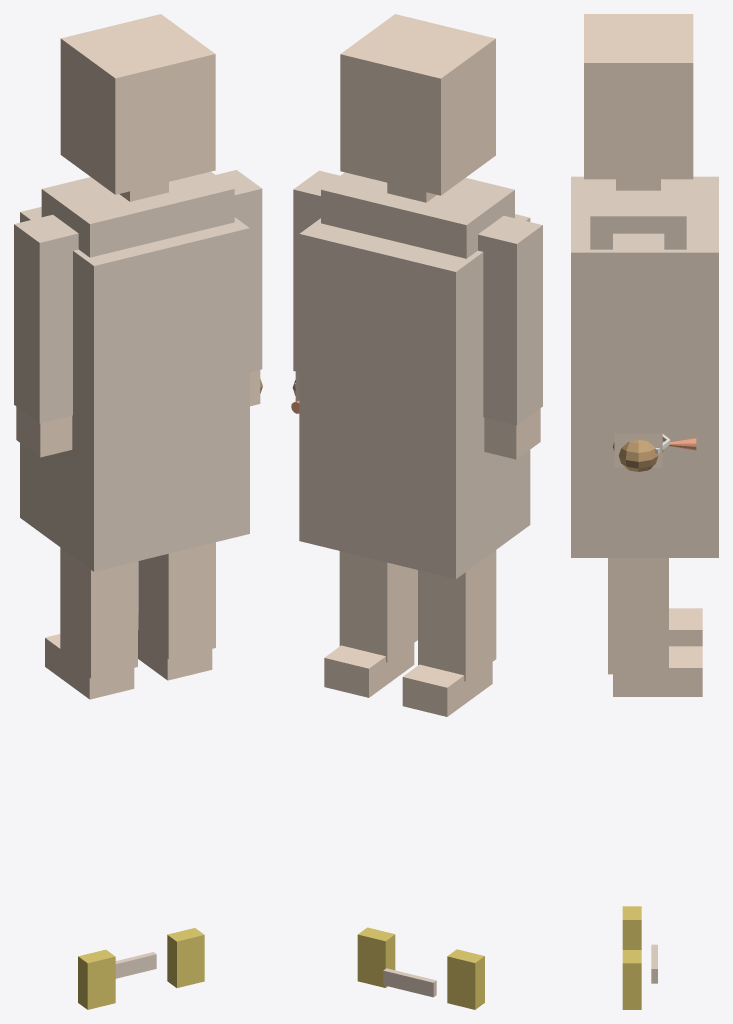
Rendered from eurydice.glb.
3 views of the same model, side by side, from view 1: azimuth 30°, elevation 25°; view 2: azimuth 150°, elevation 25°; view 3: azimuth 270°, elevation 25° (orthographic).
Parts seen in each view (by area): view 1: outfit_tunic_0, head, arm_L_upper, torso, leg_L_shin, leg_R_shin, arm_R_upper, leg_L_foot, outfit_sandals_0, outfit_sandals_1, arm_L_hand, leg_R_foot (+1 smaller); view 2: outfit_tunic_0, head, arm_L_upper, torso, leg_L_shin, leg_R_shin, leg_L_foot, leg_R_foot, arm_R_upper, outfit_sandals_0, arm_L_hand, outfit_sandals_1 (+1 smaller); view 3: outfit_tunic_0, head, arm_R_upper, leg_R_shin, torso, leg_R_foot, prop, leg_L_foot, outfit_sandals_1, outfit_sandals_0, arm_R_hand, neck.
Part boxes in pixels (left/top/right/bottom): outfit_tunic_0: left=20, top=207, right=249, bottom=571; head: left=60, top=14, right=215, bottom=194; arm_L_upper: left=14, top=214, right=78, bottom=423; torso: left=41, top=171, right=234, bottom=257; leg_L_shin: left=60, top=547, right=137, bottom=678; leg_R_shin: left=138, top=542, right=215, bottom=659; arm_R_upper: left=216, top=170, right=262, bottom=371; leg_L_foot: left=45, top=634, right=134, bottom=699; outfit_sandals_0: left=78, top=949, right=115, bottom=1009; outfit_sandals_1: left=167, top=928, right=204, bottom=987; arm_L_hand: left=16, top=406, right=72, bottom=457; leg_R_foot: left=138, top=615, right=212, bottom=680; outfit_tunic_0: left=299, top=214, right=530, bottom=579; head: left=340, top=14, right=495, bottom=195; arm_L_upper: left=478, top=215, right=542, bottom=425; torso: left=321, top=172, right=514, bottom=258; leg_L_shin: left=418, top=550, right=496, bottom=681; leg_R_shin: left=339, top=551, right=417, bottom=662; leg_L_foot: left=402, top=662, right=492, bottom=716; leg_R_foot: left=324, top=643, right=414, bottom=697; arm_R_upper: left=293, top=170, right=339, bottom=372; outfit_sandals_0: left=447, top=949, right=484, bottom=1009; arm_L_hand: left=484, top=408, right=540, bottom=459; outfit_sandals_1: left=357, top=927, right=395, bottom=987; outfit_tunic_0: left=571, top=176, right=718, bottom=557; head: left=584, top=14, right=693, bottom=179; arm_R_upper: left=613, top=233, right=664, bottom=433; leg_R_shin: left=608, top=558, right=668, bottom=674; torso: left=590, top=179, right=686, bottom=249; leg_R_foot: left=613, top=646, right=702, bottom=696; prop: left=613, top=434, right=696, bottom=471; leg_L_foot: left=669, top=608, right=702, bottom=646; outfit_sandals_1: left=622, top=950, right=641, bottom=1009; outfit_sandals_0: left=622, top=906, right=641, bottom=949; arm_R_hand: left=614, top=433, right=662, bottom=467; neck: left=616, top=179, right=660, bottom=190.
Size of the model in its own units: 0.84 by 3.24 by 0.46.
